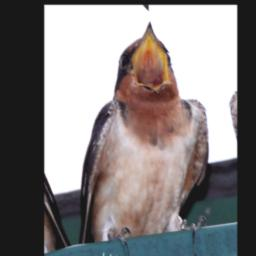Swallow: (51, 12, 225, 256)
